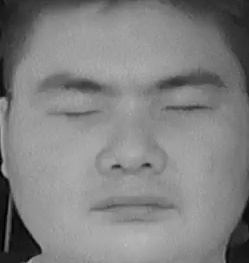blink: (46, 95, 103, 129), (162, 93, 213, 126)
mouth: (89, 183, 183, 231)
